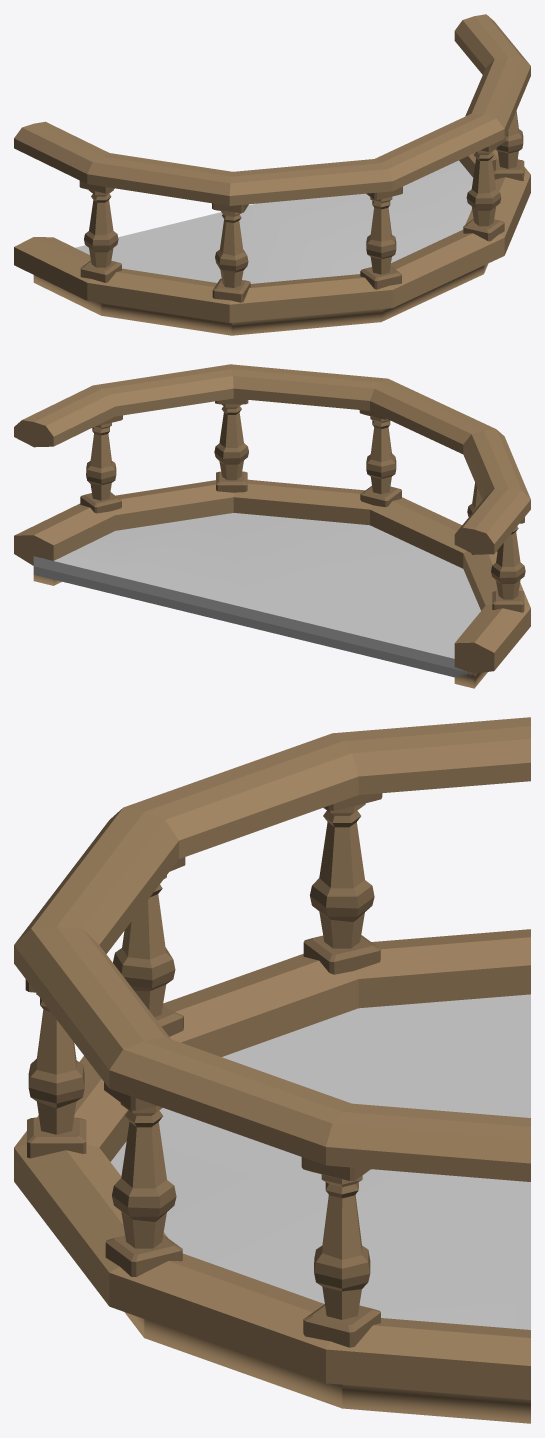
File: SM_Bld_Balcony_Manor_01.fbx
The picture shows the model from 3 angles, top to bottom: view 1: azimuth 30°, elevation 25°; view 2: azimuth 150°, elevation 25°; view 3: azimuth 270°, elevation 25°; orthographic projection. The views are drawn at different scales.
Visible parts, largest first — view 1: SM_Bld_Balcony_Manor_01; view 2: SM_Bld_Balcony_Manor_01; view 3: SM_Bld_Balcony_Manor_01.
Part boxes in pixels (box(x1,y1,x2,y2)): SM_Bld_Balcony_Manor_01: box(14, 14, 530, 335); SM_Bld_Balcony_Manor_01: box(14, 364, 530, 688); SM_Bld_Balcony_Manor_01: box(14, 717, 530, 1423).
Size of the model in its own units: 273 by 86.29 by 136.
